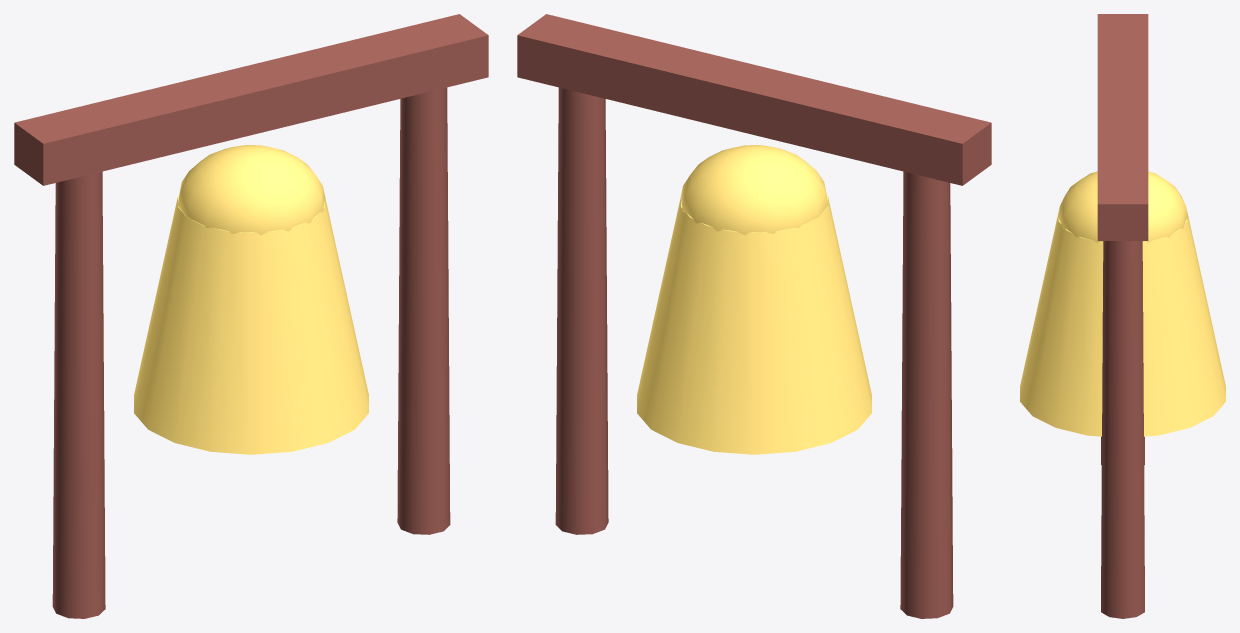
File: dharma_bell.glb
3 renders of one model, left to right at view 1: azimuth 30°, elevation 25°; view 2: azimuth 150°, elevation 25°; view 3: azimuth 270°, elevation 25°, orthographic. The views are drawn at different scales.
Parts seen in each view (by area): view 1: IronwoodBellFrame, SacredBronzeBell; view 2: IronwoodBellFrame, SacredBronzeBell; view 3: SacredBronzeBell, IronwoodBellFrame.
Part boxes in pixels (box(x1,y1,x2,y2)): IronwoodBellFrame: box(14, 14, 488, 618); SacredBronzeBell: box(134, 145, 368, 454); IronwoodBellFrame: box(517, 14, 991, 618); SacredBronzeBell: box(637, 145, 871, 454); SacredBronzeBell: box(1020, 171, 1225, 436); IronwoodBellFrame: box(1097, 14, 1148, 618).
Size of the model in its own units: 3.1 by 3.24 by 1.42.
